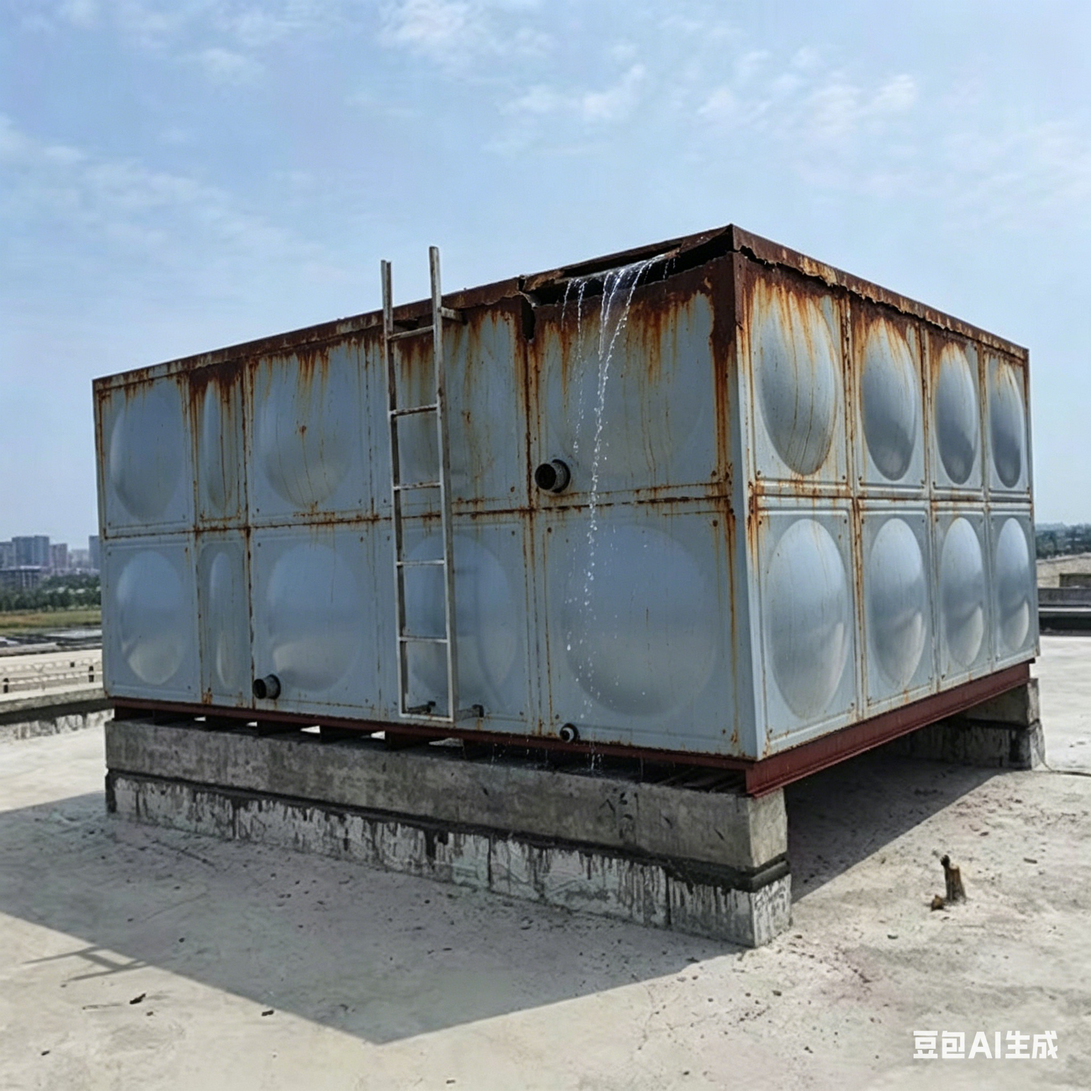Leakage: (507, 253, 682, 644)
